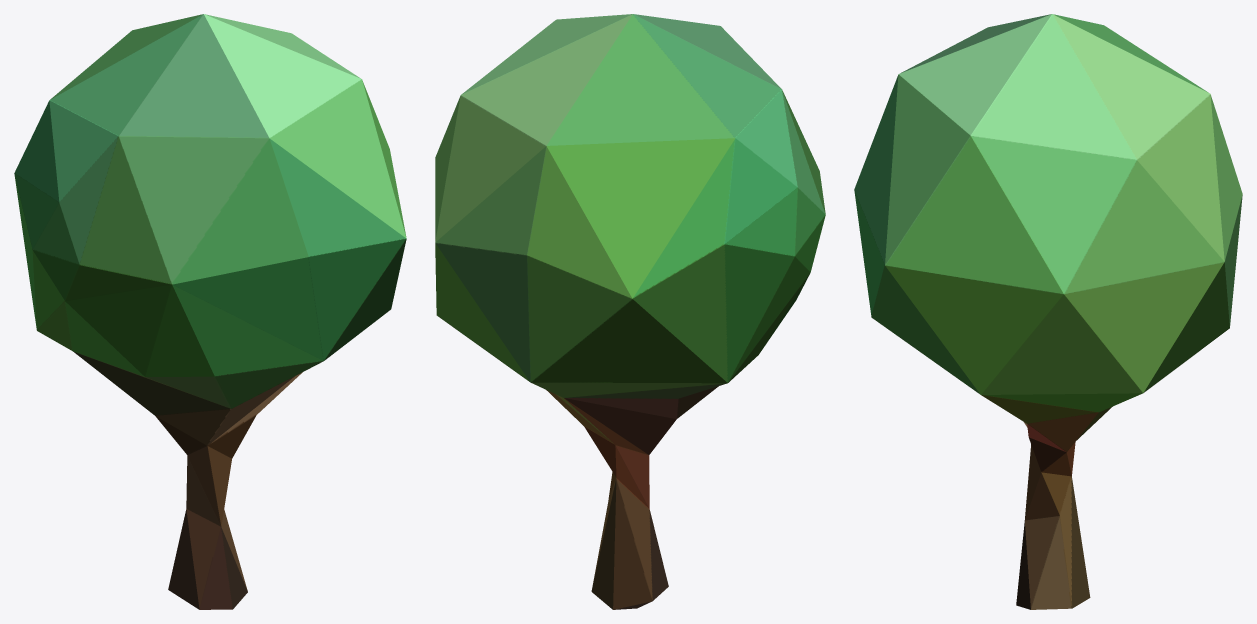
Rendered from tree.glb.
The picture shows the model from 3 angles, left to right: view 1: azimuth 30°, elevation 25°; view 2: azimuth 150°, elevation 25°; view 3: azimuth 270°, elevation 25°; orthographic projection.
Size of the model in its own units: 0.7589 by 1.2 by 0.7111.
1 material, 1 textured.
